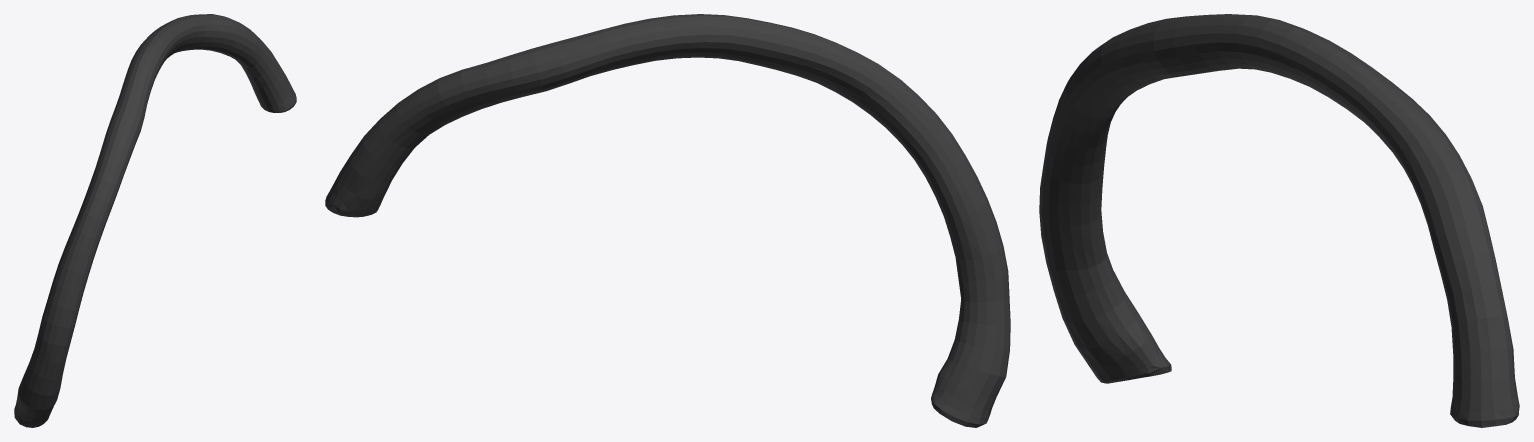
The model's file is Semicircular_canal_anterior_L.glb.
3 views of the same model, side by side, from view 1: azimuth 30°, elevation 25°; view 2: azimuth 150°, elevation 25°; view 3: azimuth 270°, elevation 25° (orthographic). The views are drawn at different scales.
Visible parts, largest first — view 1: Semicircular_canal_anterior_L; view 2: Semicircular_canal_anterior_L; view 3: Semicircular_canal_anterior_L.
Boxes of the visible parts, x1,y1,x2,y2 form: Semicircular_canal_anterior_L: (14,14,296,427); Semicircular_canal_anterior_L: (325,14,1010,427); Semicircular_canal_anterior_L: (1039,14,1519,427).
Bounding box in the file's own units: 1.87 × 1.38 × 1.21.
Materials: 1 (1 with a texture image).
